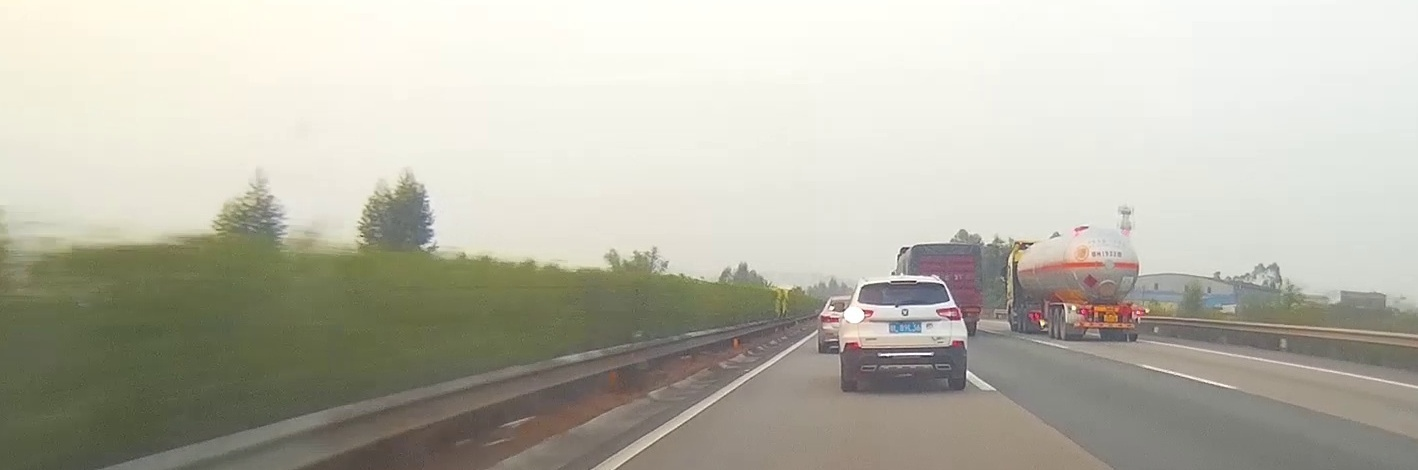L_light: (843, 307, 874, 323), (1078, 309, 1090, 314)
R_light: (936, 307, 962, 321), (1133, 310, 1143, 315)
T_light: (890, 279, 917, 285), (1106, 305, 1116, 310)
day-brake: (1063, 304, 1149, 341)
day-left: (838, 275, 967, 391)
